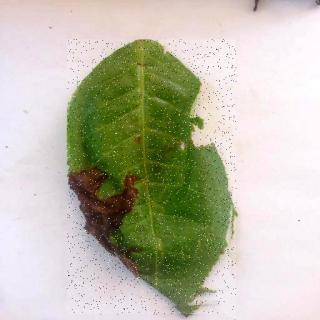Brown Blight: (68, 41, 238, 316)
